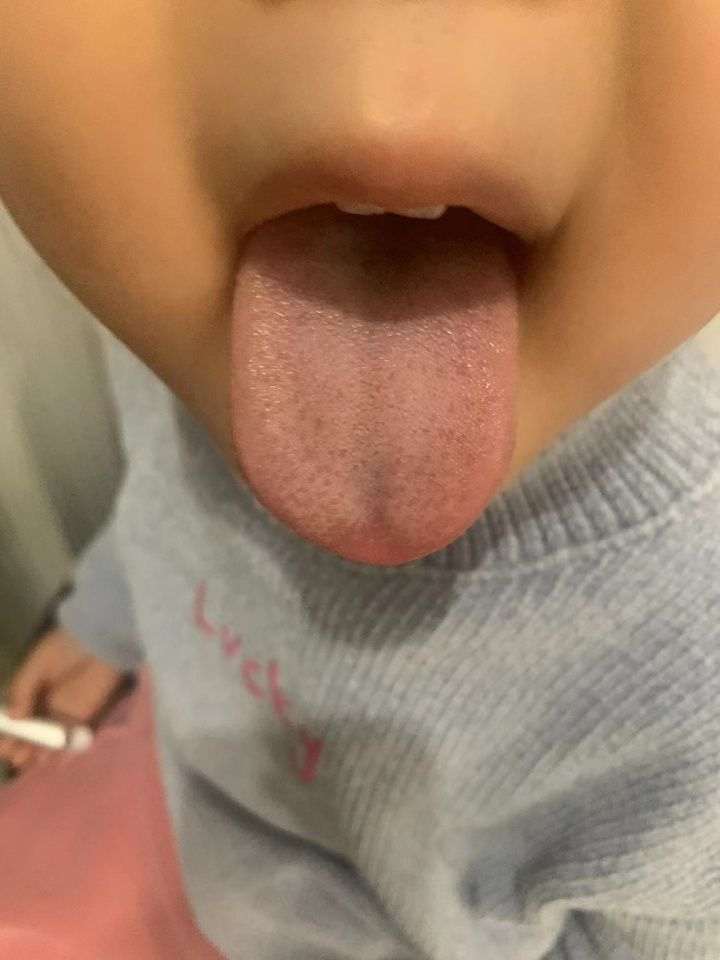baitaishe: (230, 218, 516, 566)
hongshe: (231, 218, 517, 566)
